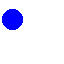circle: (2, 9, 22, 29)
